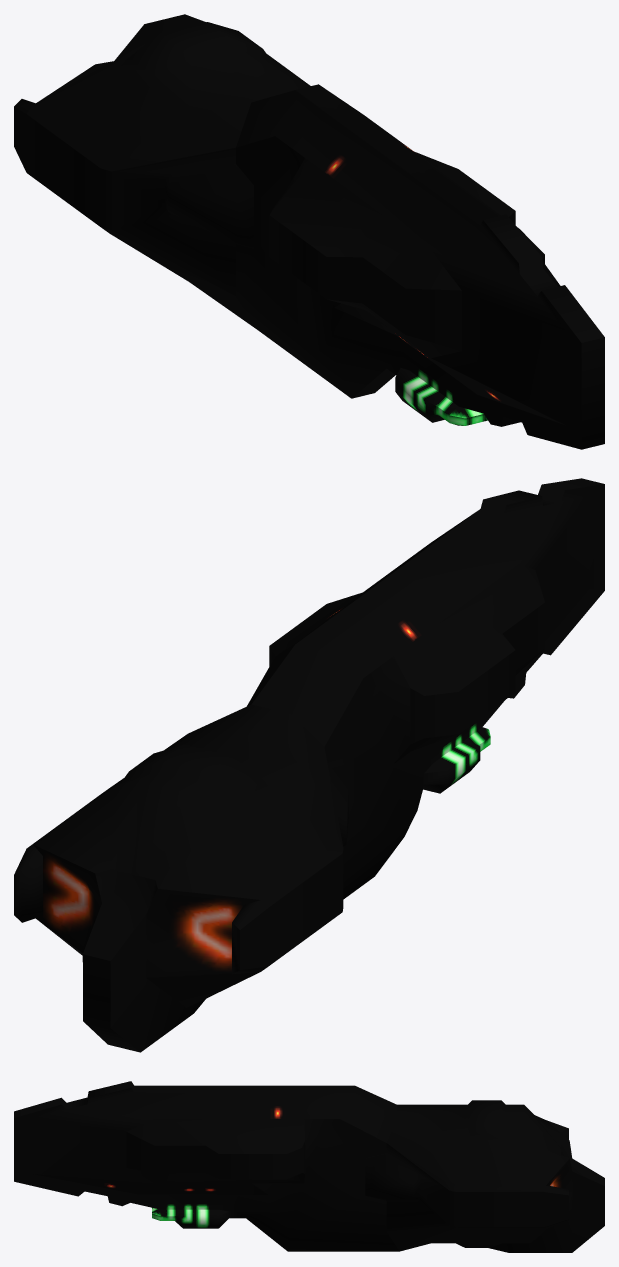
File: vgr_laser_corvette_01.glb
3 renders of one model, top to bottom at view 1: azimuth 30°, elevation 25°; view 2: azimuth 150°, elevation 25°; view 3: azimuth 270°, elevation 25°, orthographic. The views are drawn at different scales.
Parts seen in each view (by area): view 1: vgr_laser_corvette_01_LOD0; view 2: vgr_laser_corvette_01_LOD0; view 3: vgr_laser_corvette_01_LOD0.
Boxes of the visible parts, x1=… form: vgr_laser_corvette_01_LOD0: x1=14, y1=14, x2=604, y2=449; vgr_laser_corvette_01_LOD0: x1=14, y1=478, x2=604, y2=1052; vgr_laser_corvette_01_LOD0: x1=14, y1=1081, x2=604, y2=1252.
Size of what is drawn, in the model's own units: 0.229 by 0.2487 by 0.8135.
1 material, 1 textured.
